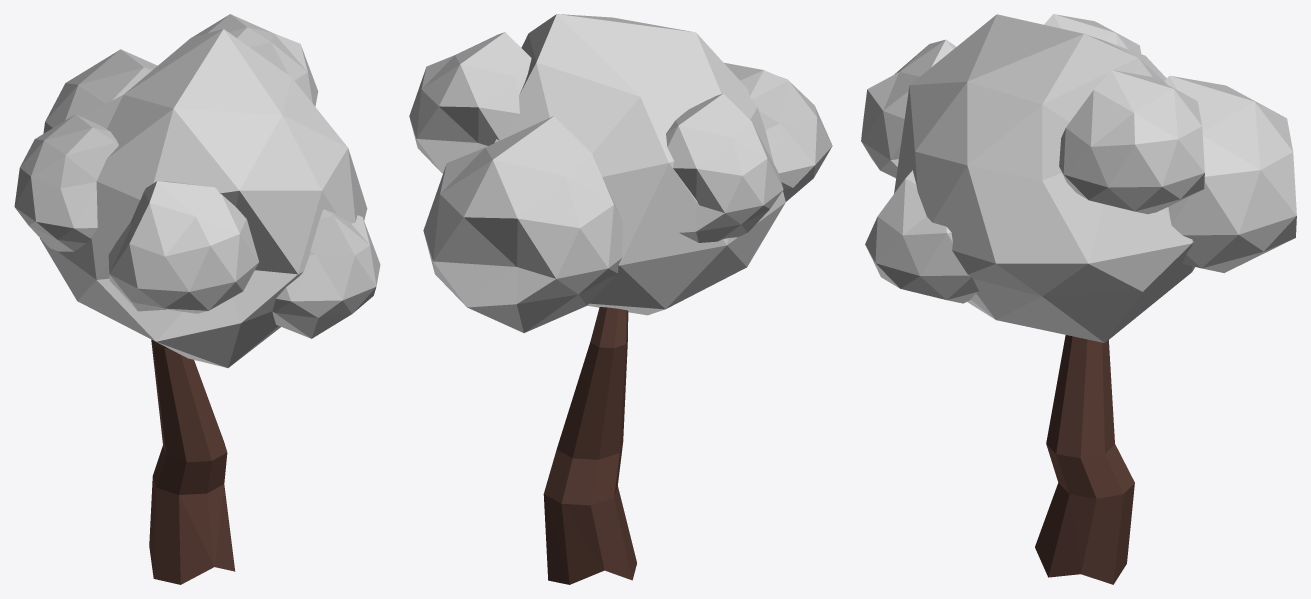
File: trees01.fbx
The picture shows the model from 3 angles, left to right: view 1: azimuth 30°, elevation 25°; view 2: azimuth 150°, elevation 25°; view 3: azimuth 270°, elevation 25°; orthographic projection. The views are drawn at different scales.
Visible parts, largest first — view 1: Icosphere.002; view 2: Icosphere.002; view 3: Icosphere.002.
Part boxes in pixels (x1,y1,x2,y2): Icosphere.002: [14, 14, 380, 584]; Icosphere.002: [409, 14, 832, 584]; Icosphere.002: [861, 14, 1296, 584].
Size of the model in its own units: 2.69 by 4.43 by 3.16.
